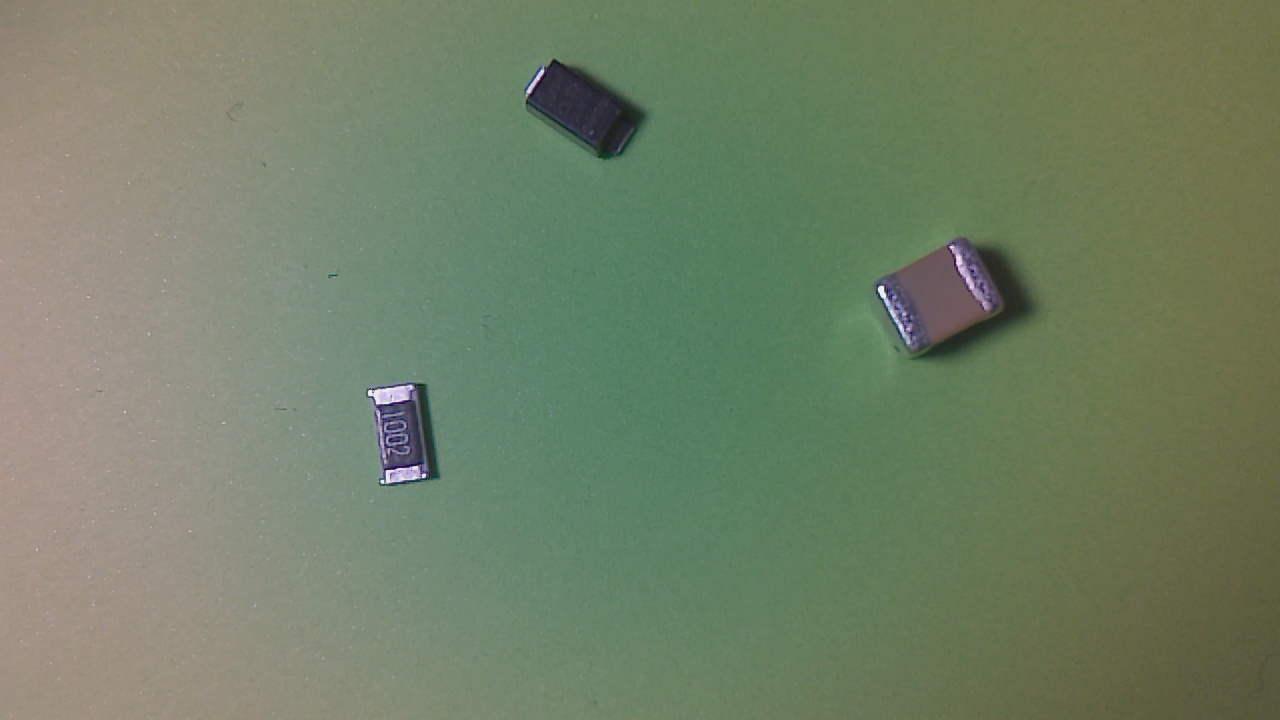Condensator: (874, 237, 1011, 363)
Diode: (523, 59, 647, 163)
Resistor: (369, 386, 440, 493)
